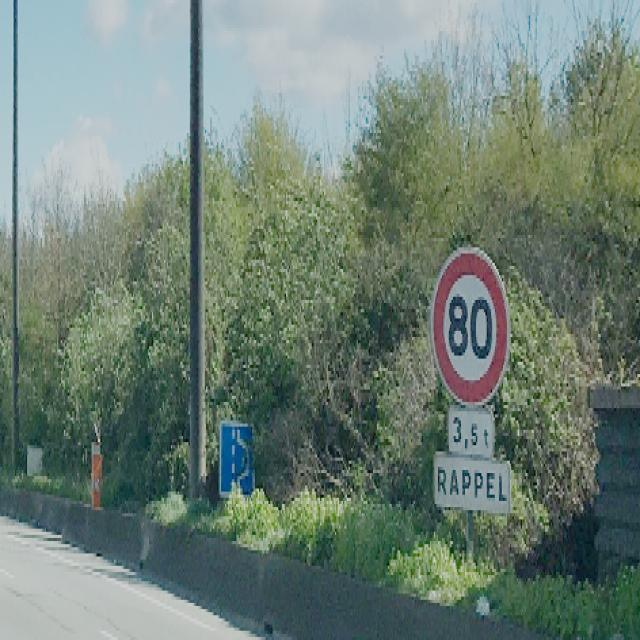speed_80: (429, 244, 513, 409)
